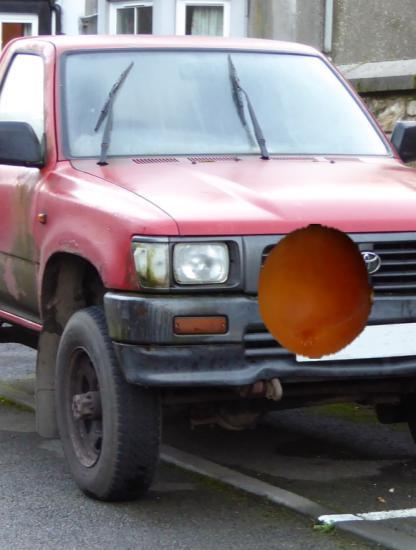Apricot: (249, 224, 384, 359)
